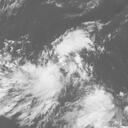cyclone: (27, 45, 104, 115)
